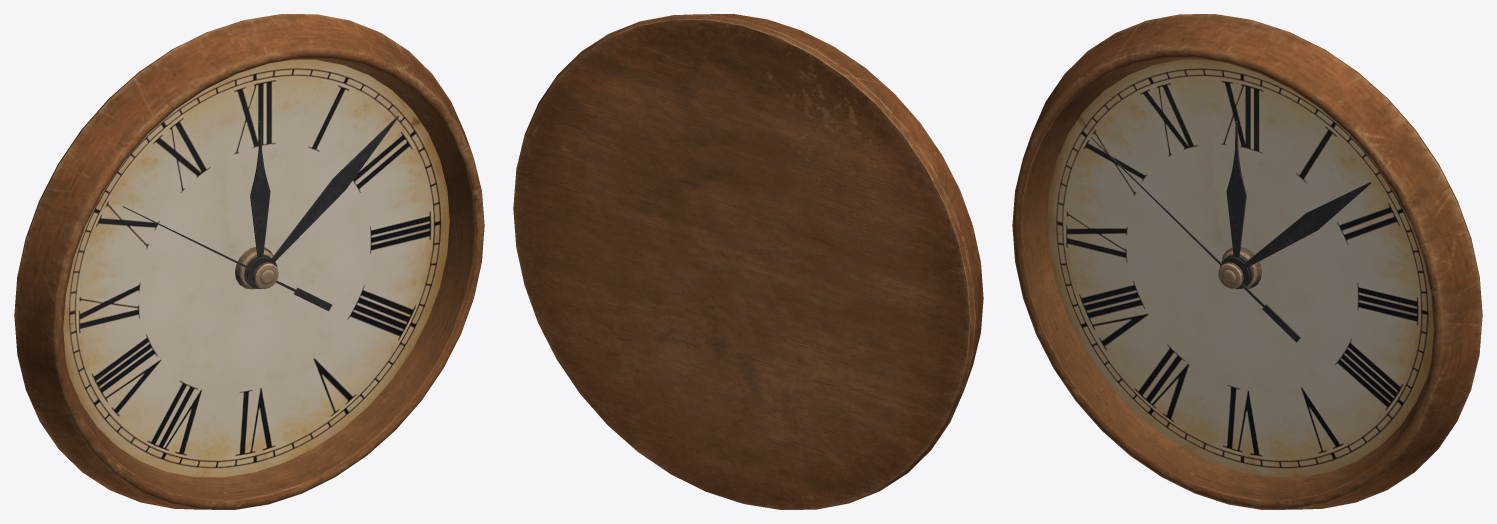
Rendered from clock.fbx.
The picture shows the model from 3 angles, left to right: view 1: azimuth 30°, elevation 25°; view 2: azimuth 150°, elevation 25°; view 3: azimuth 330°, elevation 25°; orthographic projection.
Visible parts, largest first — view 1: clock_main, minute_hand, hour_hand, second_hand; view 2: clock_main; view 3: clock_main, minute_hand, hour_hand, second_hand.
Boxes of the visible parts, box(x1,y1,x2,y2) form: clock_main: box(14, 14, 484, 509); minute_hand: box(247, 116, 398, 288); hour_hand: box(244, 121, 271, 288); second_hand: box(122, 206, 332, 311); clock_main: box(513, 14, 983, 509); clock_main: box(1012, 14, 1482, 509); minute_hand: box(1219, 182, 1371, 289); hour_hand: box(1224, 121, 1252, 288); second_hand: box(1091, 137, 1300, 342).
Bounding box in the file's own units: 34.14 × 34.14 × 3.53.
Materials: 2 (2 with a texture image).
